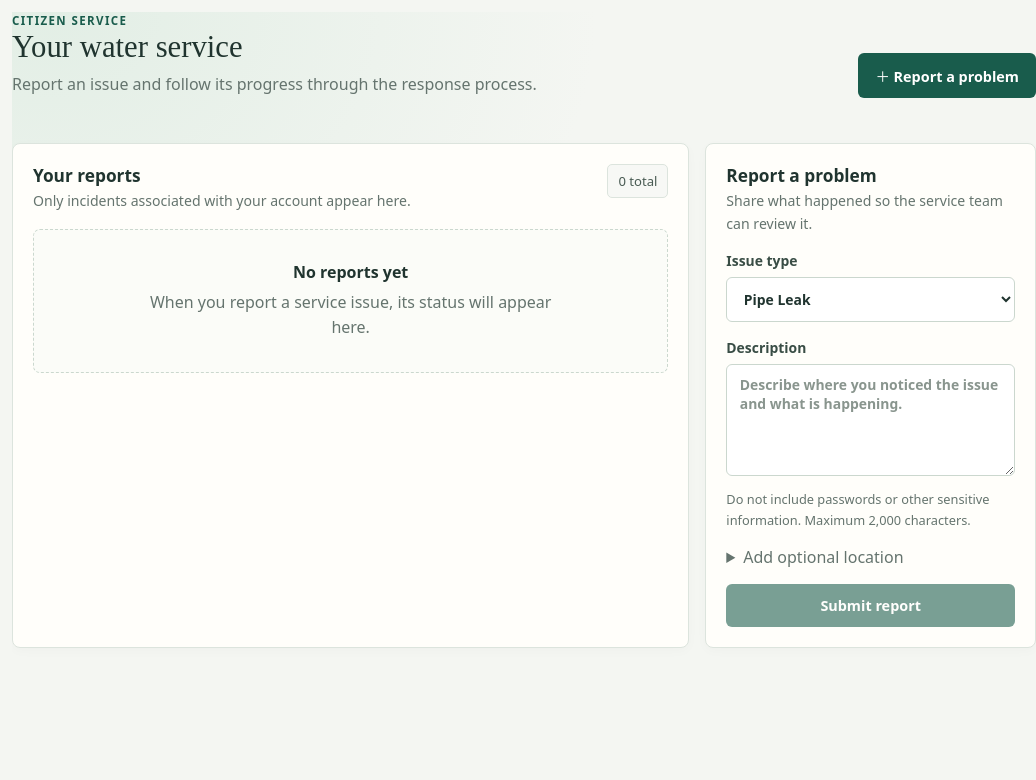
Test: CitizenDashboardPage › submits a web incident and displays the backend reference
The image size is (1036, 780).
Expected: the text "No reports yet" is shown, [293,261,408,283]
Type "Leak near the park" into the text box labelled "Description" at (871, 420), box [726,364,1015,476]
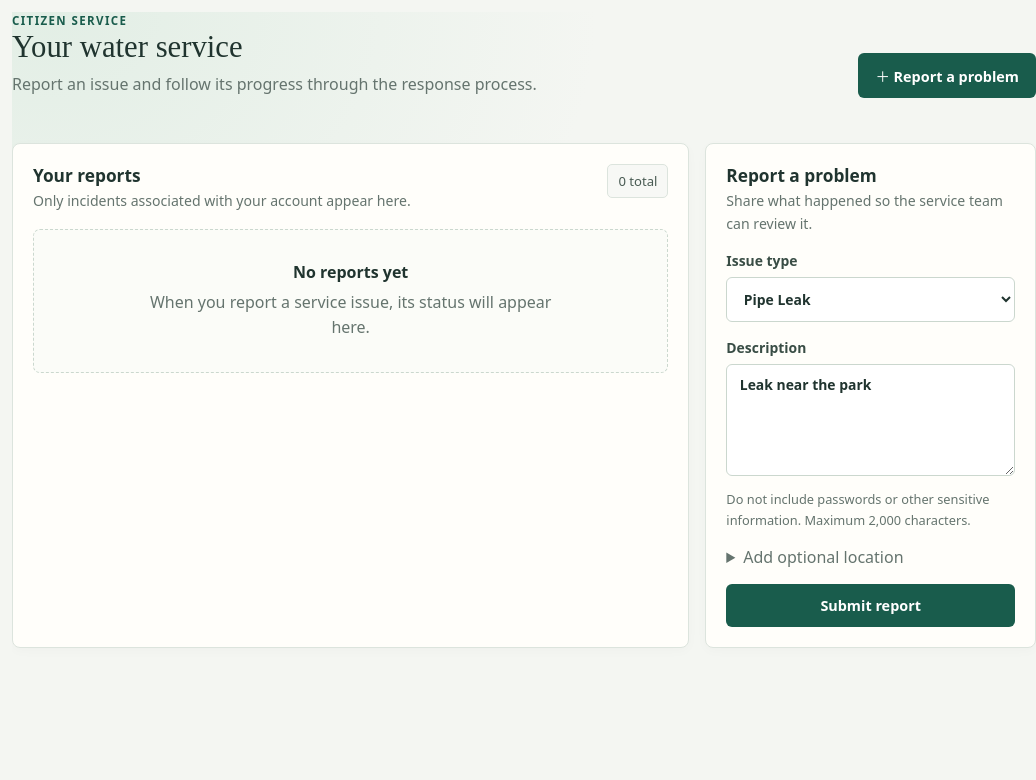
Click the button "Submit report" at (871, 606), box [726,584,1015,627]
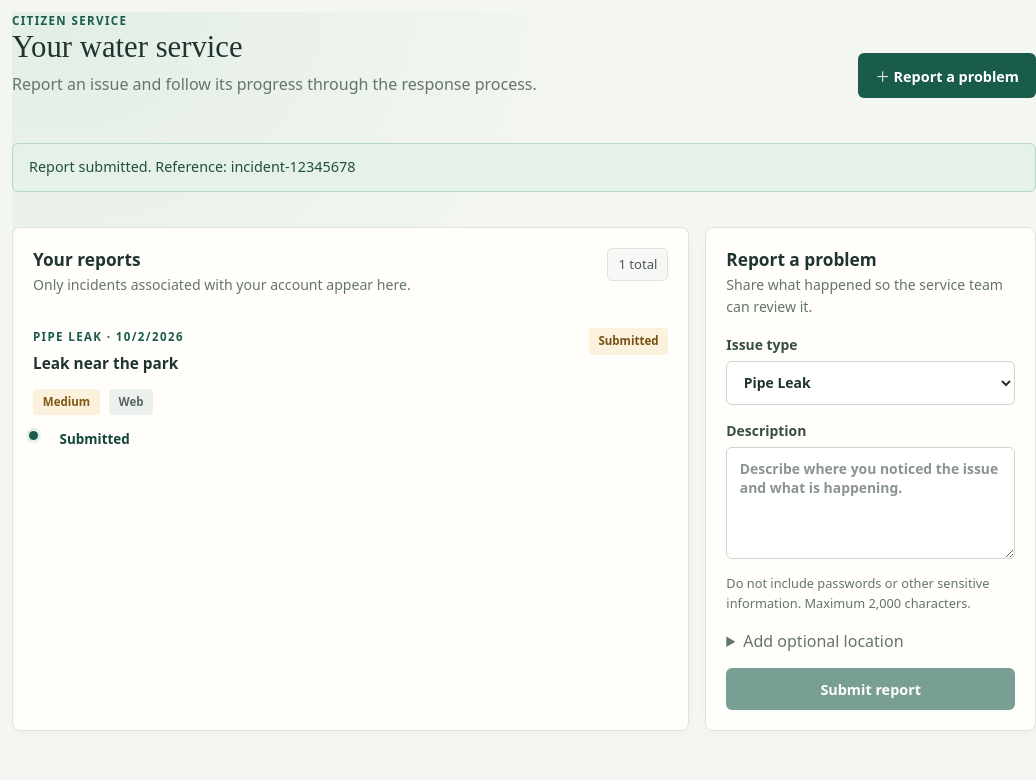
Expected: the text "Report submitted. Reference: incident-12345678" is shown, [12,143,1035,192]
Expected: the heading "Leak near the park" is shown, [33,353,184,374]
